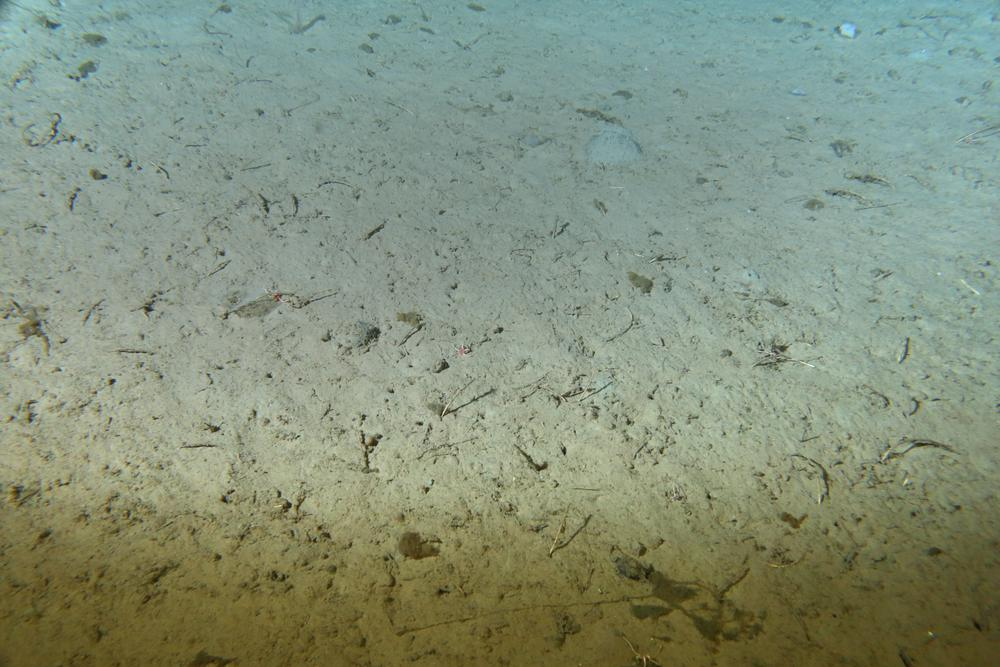Peniagone vitrea: (290, 4, 309, 37)
